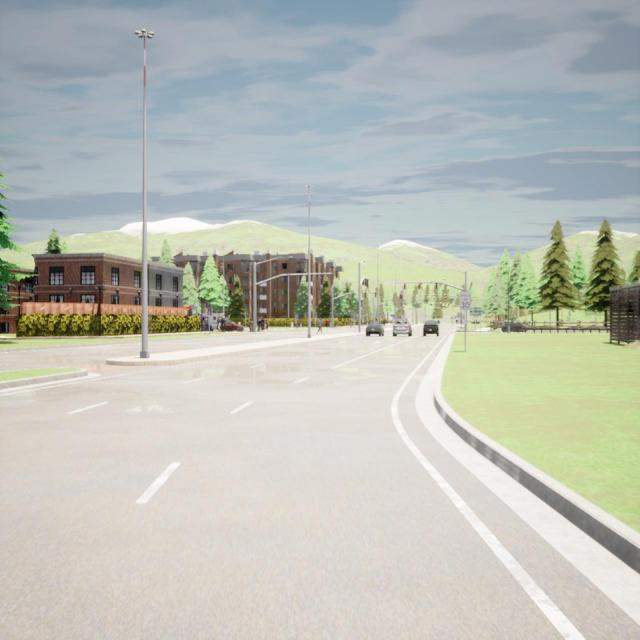Pedestrian: (316, 316, 323, 336), (220, 315, 224, 332), (257, 319, 261, 332), (261, 319, 264, 331)
Traffic_Signs: (460, 293, 470, 309), (469, 308, 482, 316)
Vehicle: (202, 314, 225, 332), (393, 318, 412, 337), (502, 321, 528, 333), (423, 320, 440, 337), (366, 322, 384, 336), (225, 320, 244, 332)
traffic_light: (404, 282, 406, 290), (418, 282, 420, 289), (436, 282, 438, 289)
